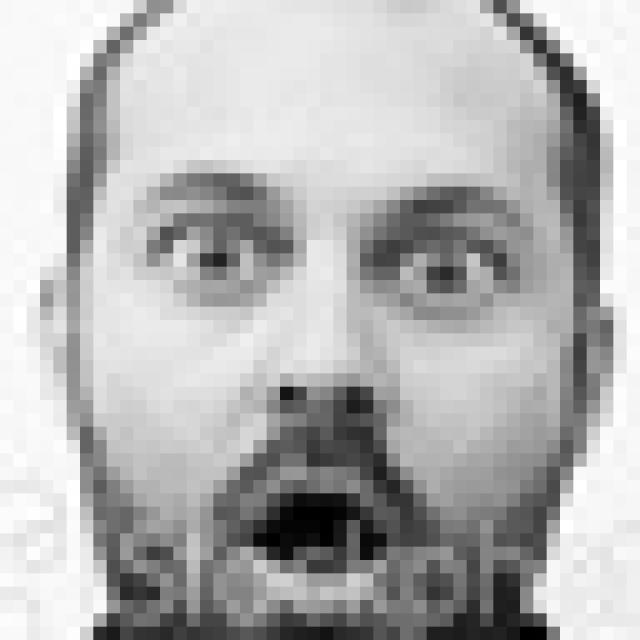surprise: (133, 157, 550, 622)
